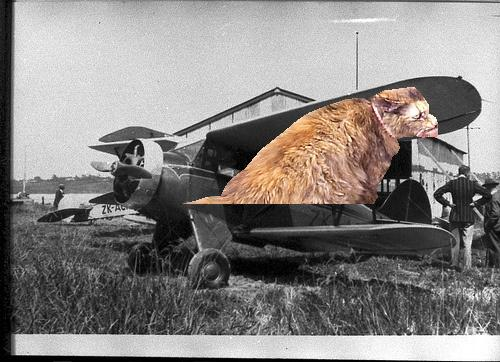tampered: (180, 88, 438, 204)
